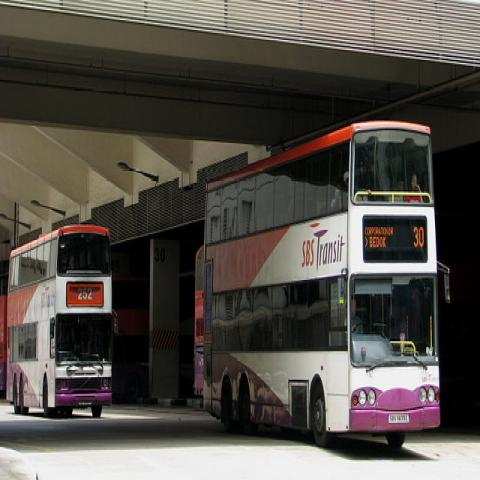bus: (203, 127, 440, 435), (6, 223, 112, 429), (111, 275, 195, 405), (194, 243, 205, 396)
